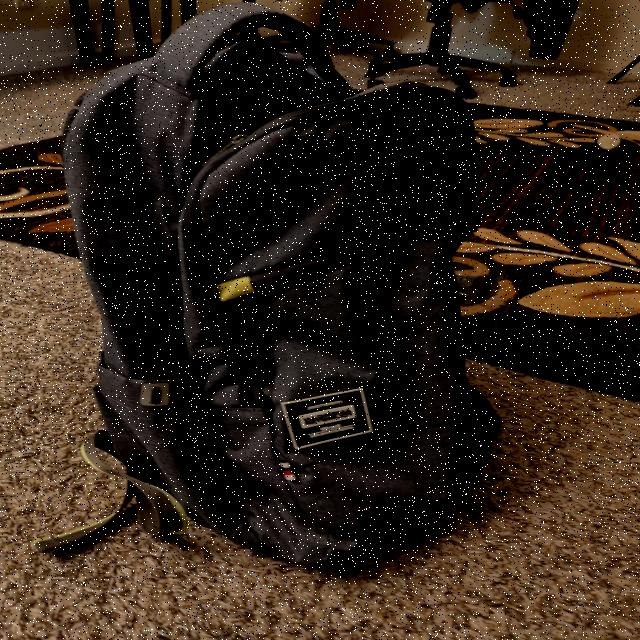bag: (71, 10, 469, 568)
